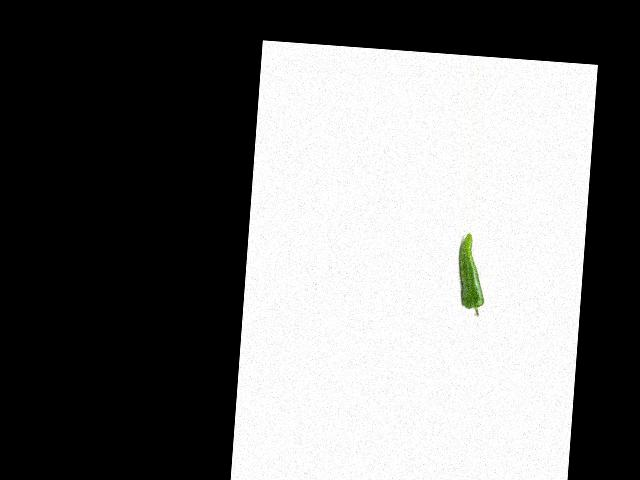bell_pepper: (452, 232, 490, 319)
